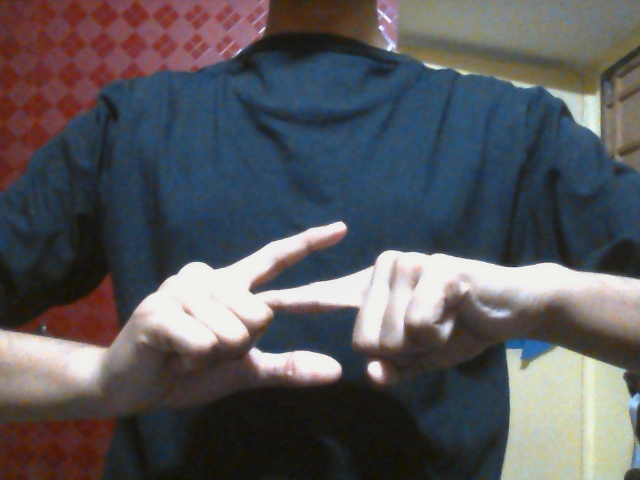E: (127, 218, 498, 420)
